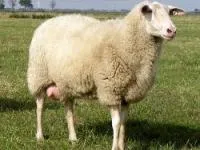sheep: (25, 3, 177, 145)
